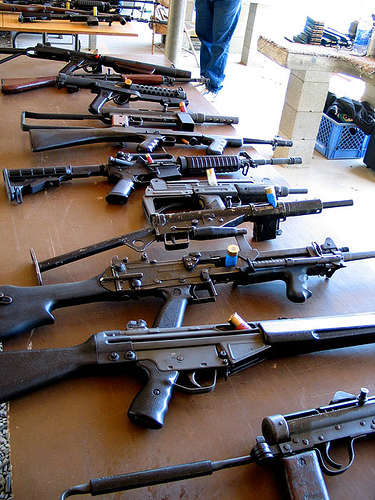rifle: (8, 246, 372, 312), (12, 195, 365, 255), (10, 334, 371, 392), (10, 139, 297, 196), (1, 104, 293, 136)
